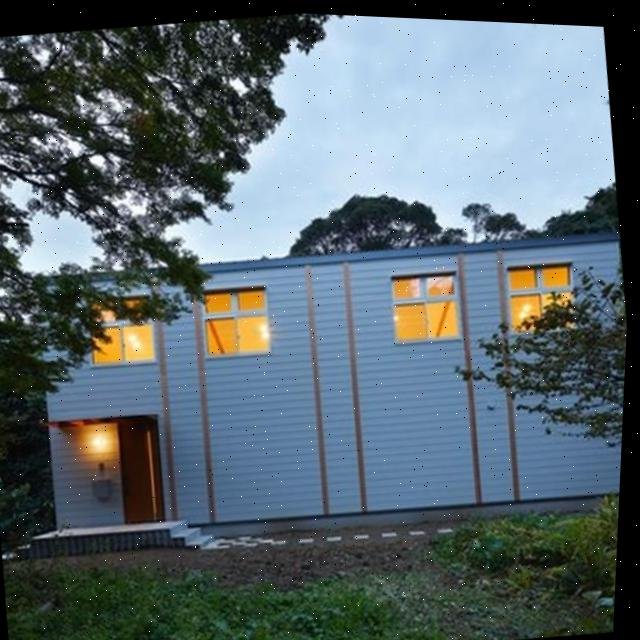building: (22, 201, 631, 568)
